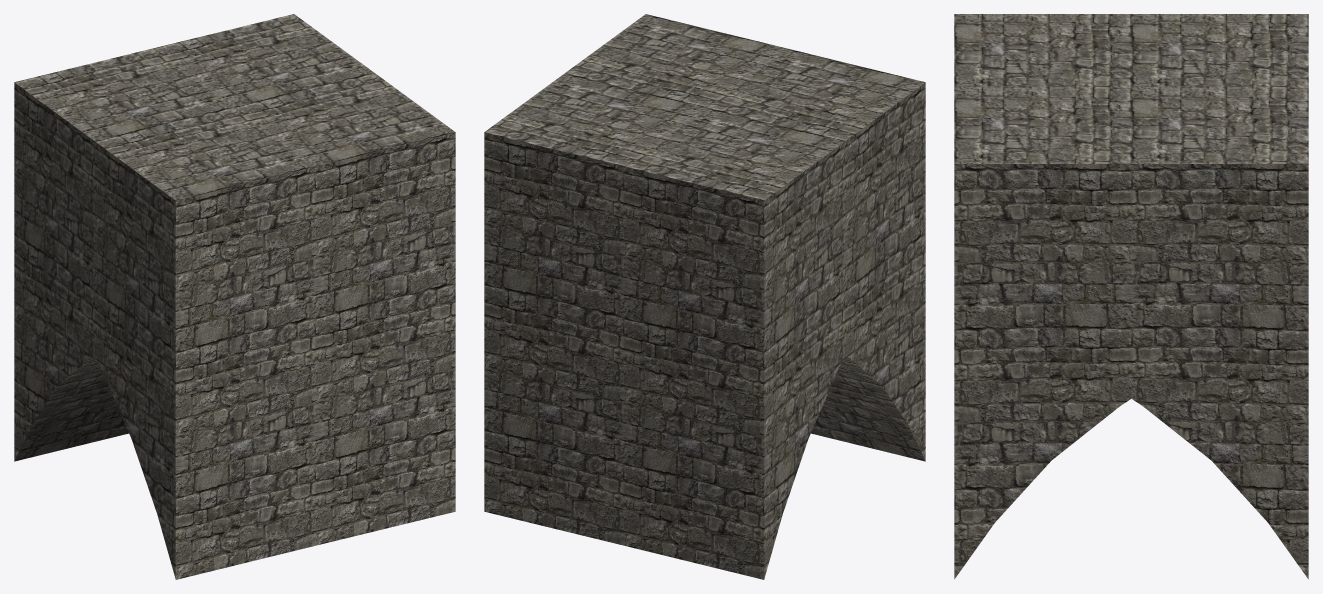
Rendered from StoneBridge_DoubleAbutmentCenter.dae.
The picture shows the model from 3 angles, left to right: view 1: azimuth 30°, elevation 25°; view 2: azimuth 150°, elevation 25°; view 3: azimuth 270°, elevation 25°; orthographic projection. The views are drawn at different scales.
Visible parts, largest first — view 1: DoubleAbutmentCenter, DoubleAbutmentCenter2; view 2: DoubleAbutmentCenter, DoubleAbutmentCenter2; view 3: DoubleAbutmentCenter.
Part boxes in pixels (bbox=[...]): DoubleAbutmentCenter: bbox=[14, 14, 455, 579]; DoubleAbutmentCenter2: bbox=[14, 356, 128, 461]; DoubleAbutmentCenter: bbox=[484, 14, 925, 579]; DoubleAbutmentCenter2: bbox=[811, 356, 925, 461]; DoubleAbutmentCenter: bbox=[954, 14, 1308, 579].
Bounding box in the file's own units: 4 × 5.18 × 4.
2 materials, 2 textured.
